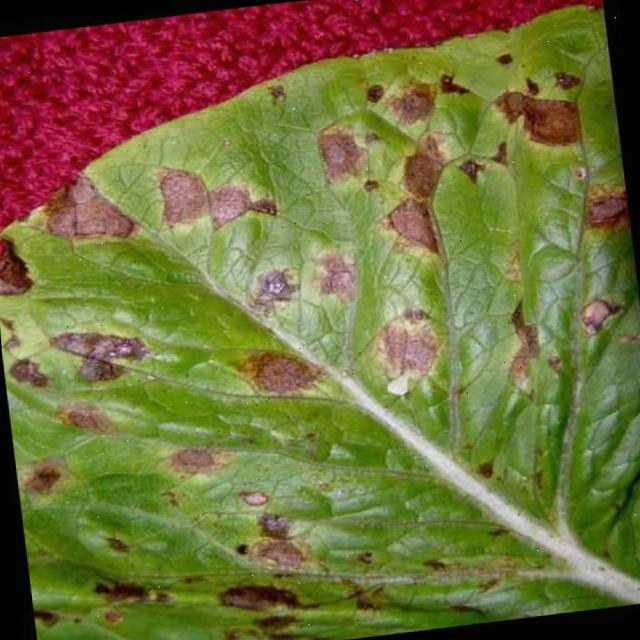Septoria_Blight: (11, 71, 640, 640)
